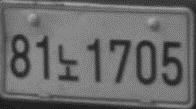0: (134, 38, 157, 85)
1: (85, 36, 103, 83), (34, 33, 51, 80)
5: (161, 39, 182, 86)
7: (108, 37, 131, 84)
8: (9, 32, 31, 79)
노: (57, 42, 79, 83)
